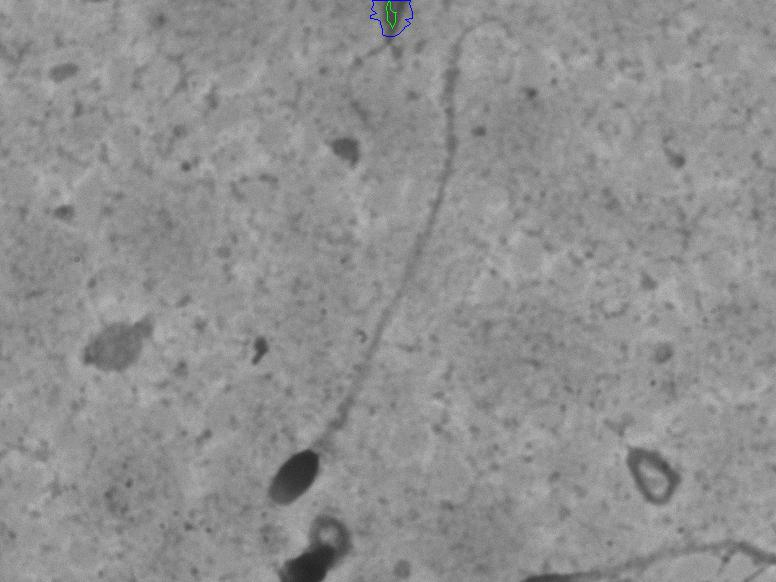Normal: (194, 13, 544, 507)
